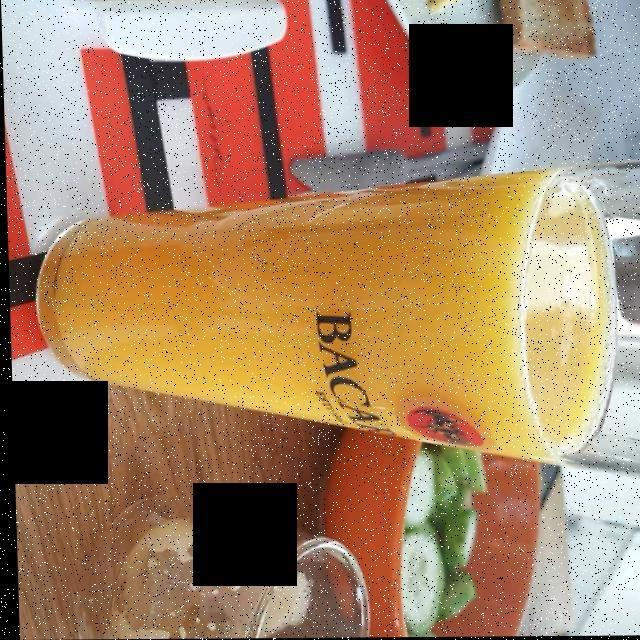juice: (55, 172, 602, 459)
